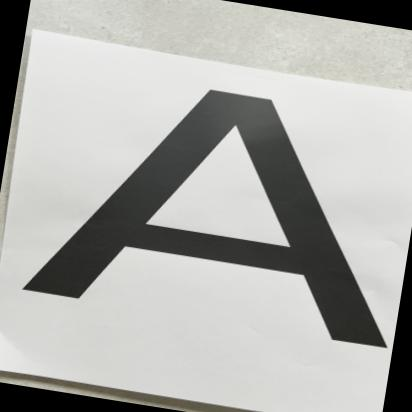seat: (17, 57, 412, 380)
